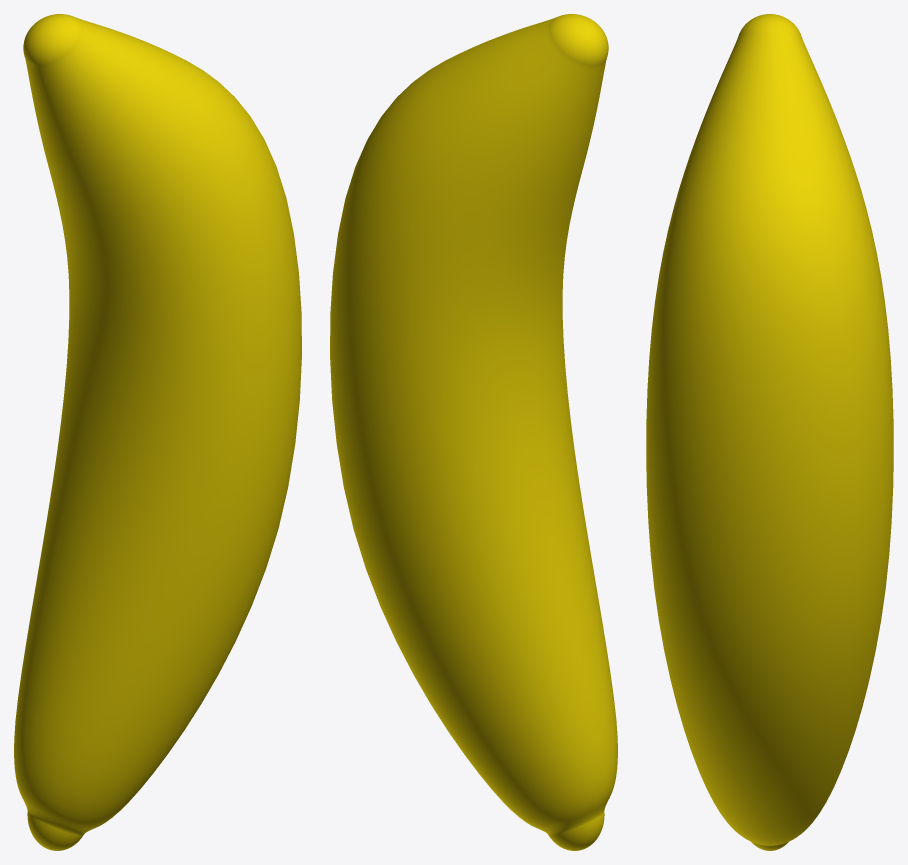
The model's file is BananaBalloon.fbx.
The picture shows the model from 3 angles, left to right: view 1: azimuth 30°, elevation 25°; view 2: azimuth 150°, elevation 25°; view 3: azimuth 270°, elevation 25°; orthographic projection.
Visible parts, largest first — view 1: BananaBalloon; view 2: BananaBalloon; view 3: BananaBalloon.
Part boxes in pixels (x1,y1,x2,y2): BananaBalloon: [14, 14, 301, 850]; BananaBalloon: [330, 14, 617, 850]; BananaBalloon: [646, 14, 893, 850].
Bounding box in the file's own units: 30.06 × 90.88 × 24.54.
